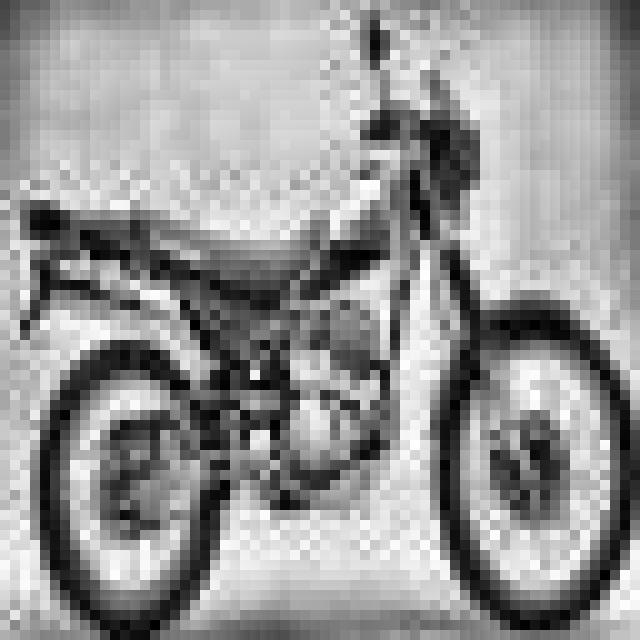mopeds: (0, 67, 639, 631)
